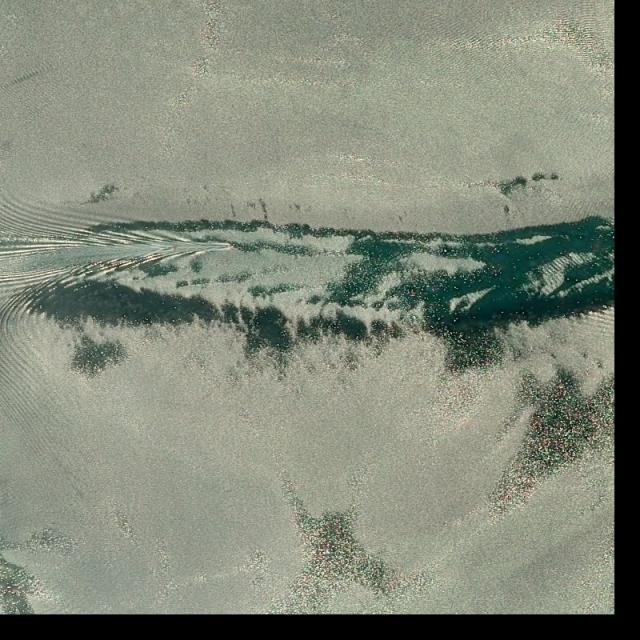ship: (224, 245, 236, 249)
